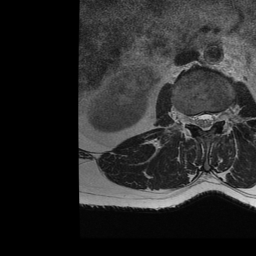CCS_normal: (202, 104, 209, 138)
LFS_normal: (215, 105, 223, 126)
LLS_normal: (209, 105, 215, 132)
RFS_normal: (187, 106, 194, 130)
RLS_normal: (195, 106, 201, 131)
